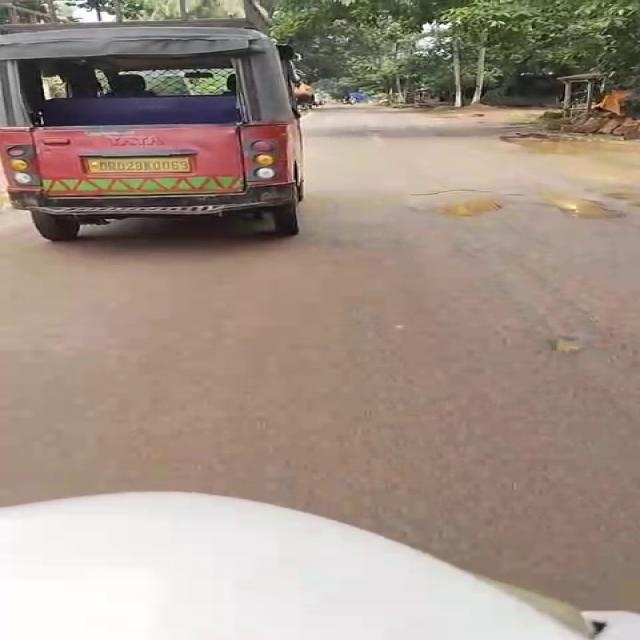pothole: (517, 186, 631, 221), (390, 184, 509, 214), (505, 130, 609, 158), (540, 329, 592, 361)
